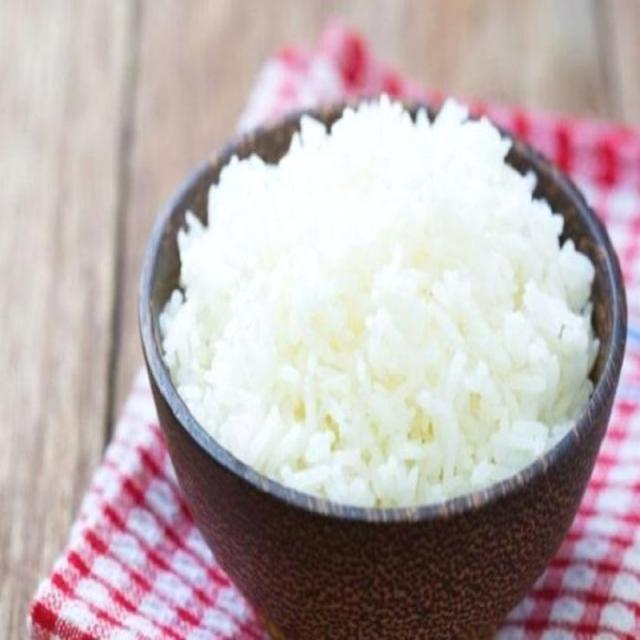rice: (161, 95, 598, 509)
